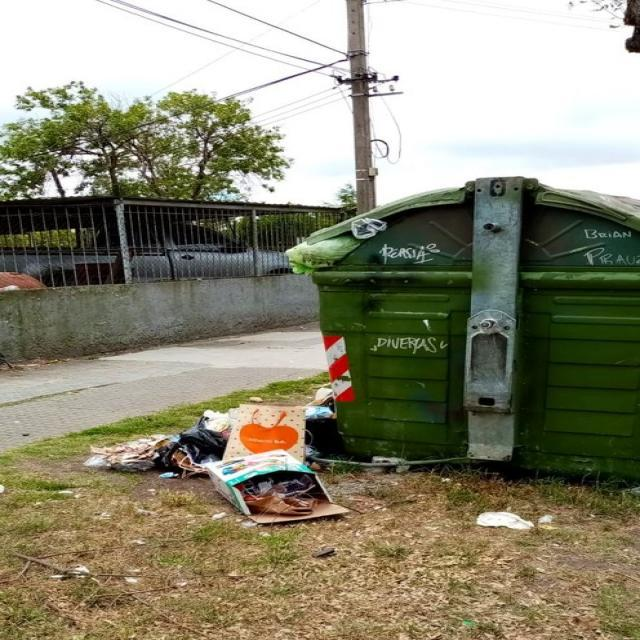garbage: (69, 388, 375, 526), (274, 230, 367, 280), (472, 496, 560, 538)
